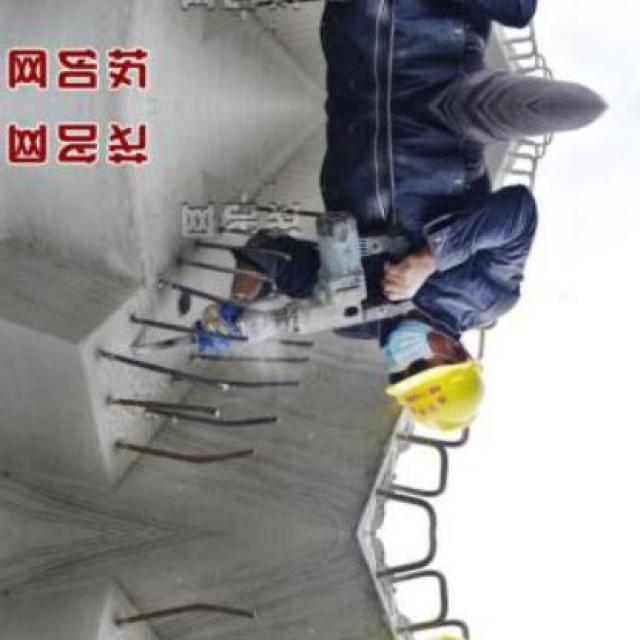safetyhelmet: (370, 338, 489, 428)
